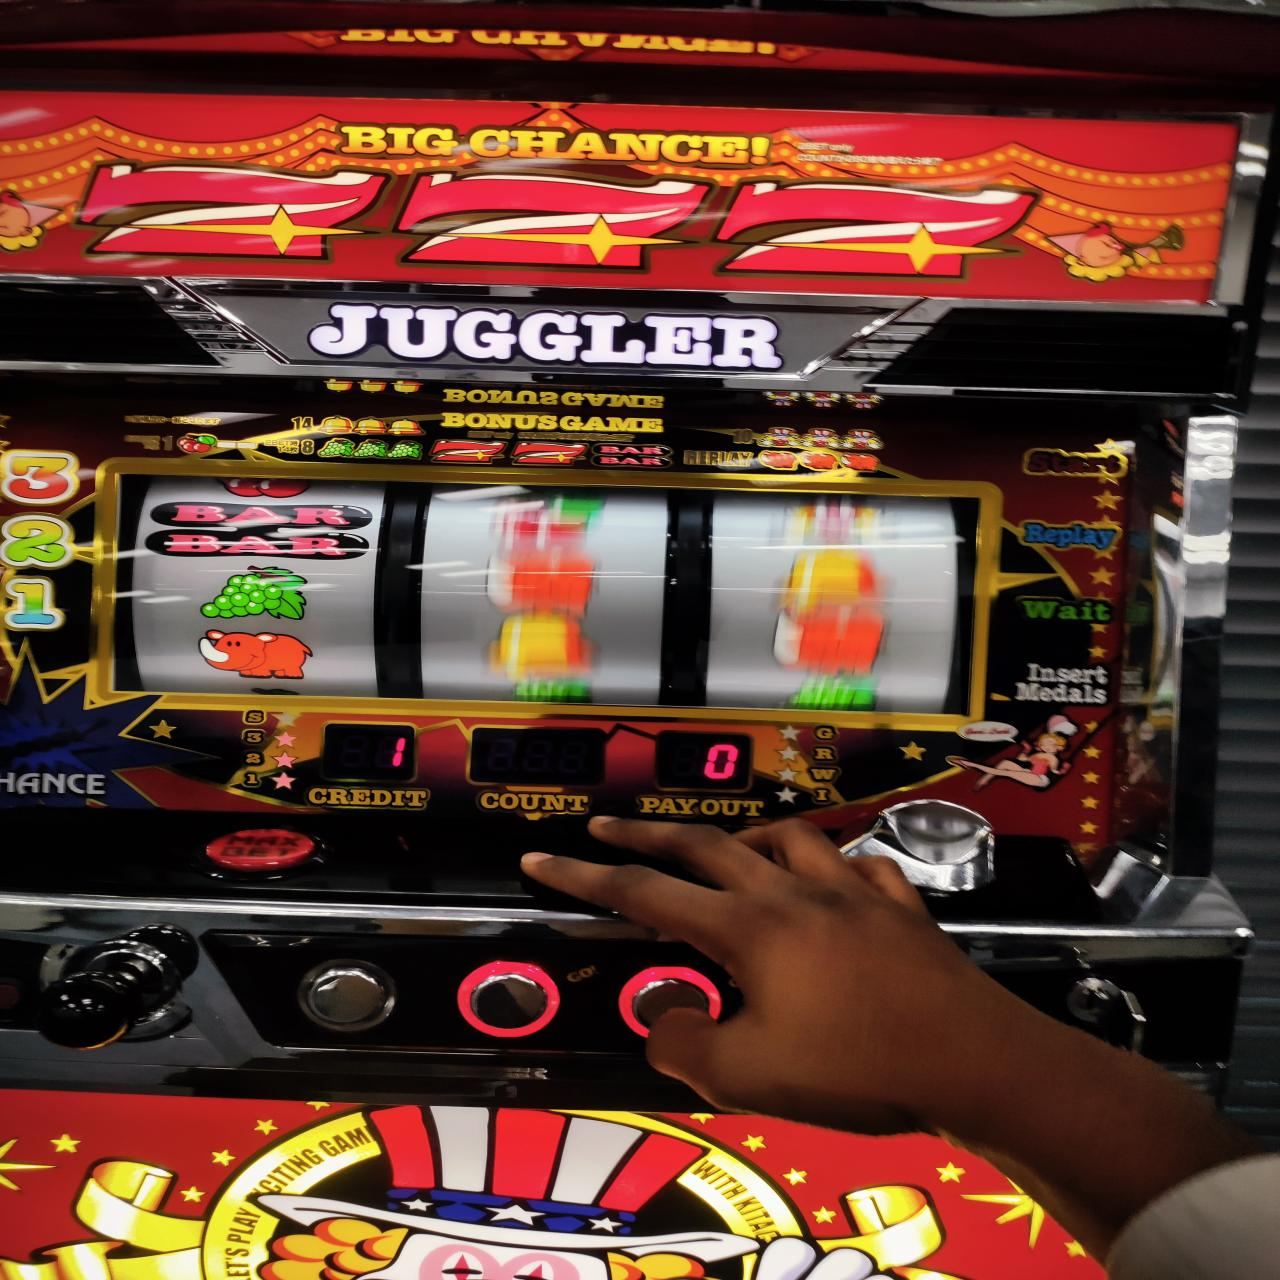8: (199, 632, 318, 681)
bar: (151, 501, 370, 564)
grape: (200, 565, 308, 624)
rhino: (107, 468, 982, 697)
